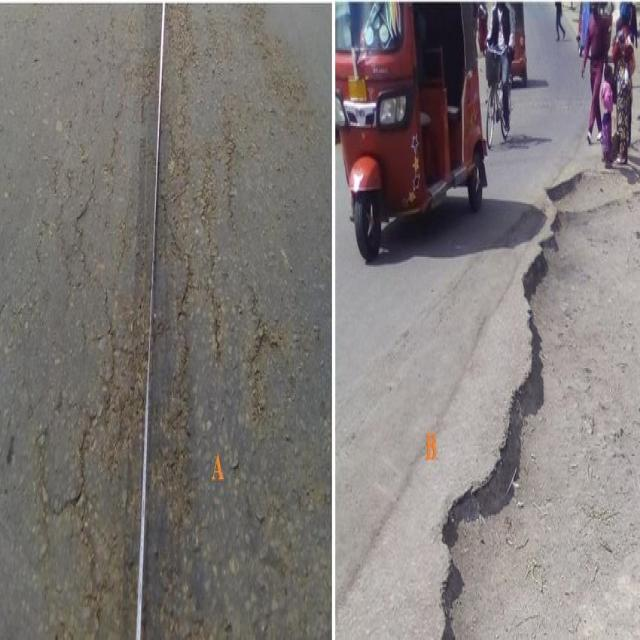Pothole: (420, 242, 640, 640)
